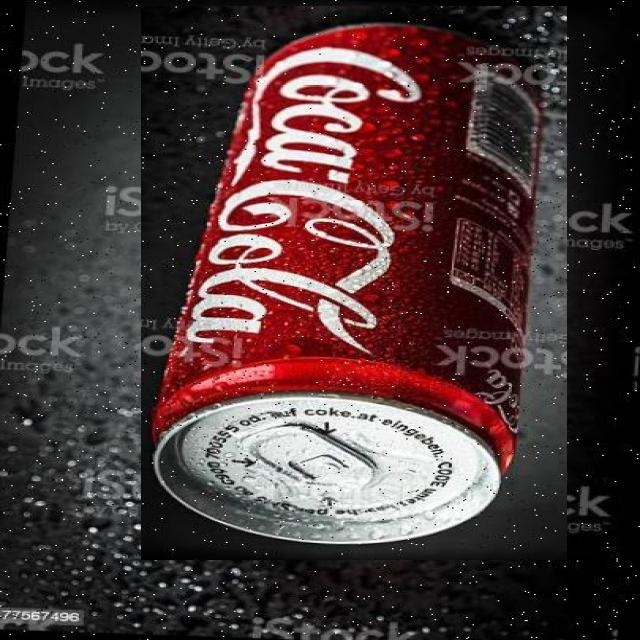coca-cola: (141, 6, 567, 560)
